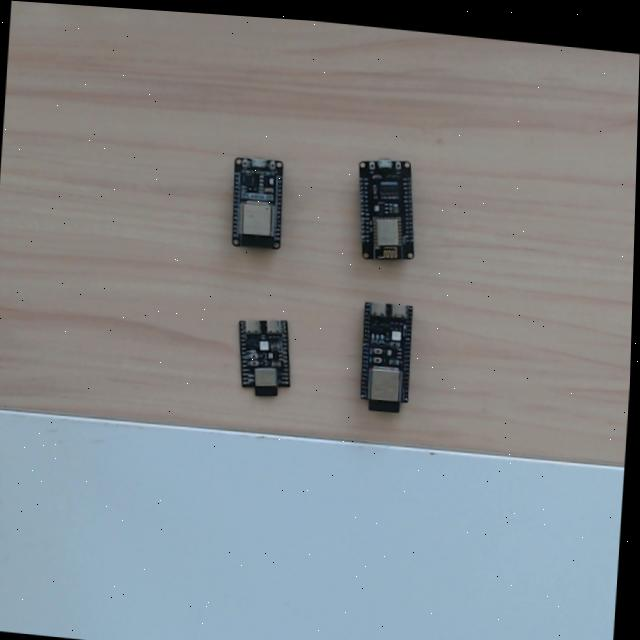ESP32-DevKit: (229, 155, 284, 249)
ESP32C3-DevKit: (234, 314, 294, 399)
ESP32S3-Devkit: (356, 299, 415, 414)
ESP8266-NodeMCU: (353, 155, 417, 262)
